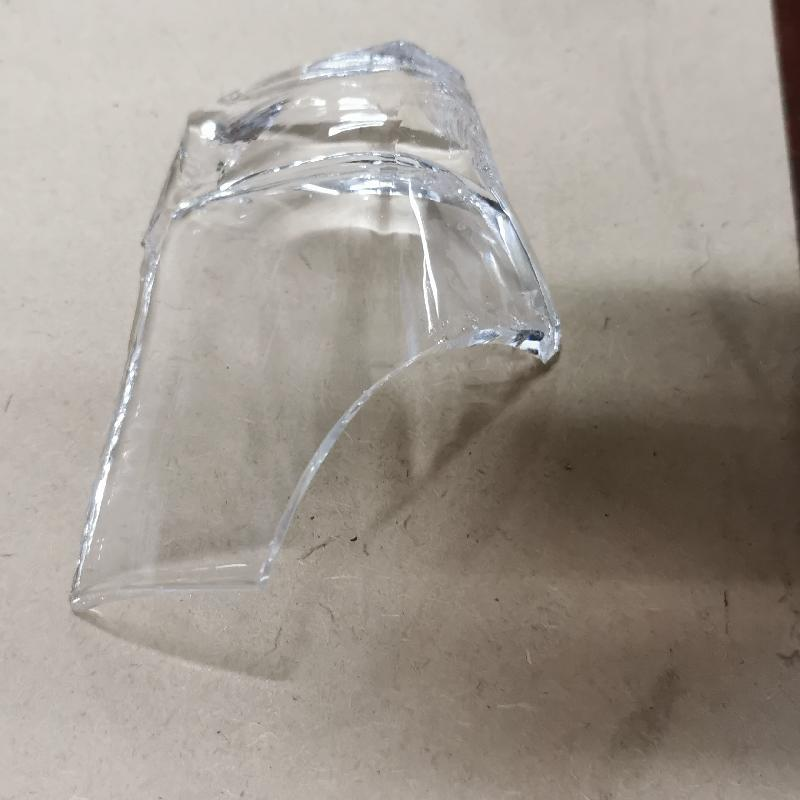glass: (65, 39, 561, 600)
